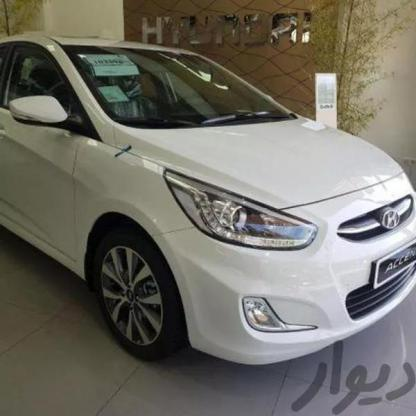Car: (0, 16, 416, 372)
